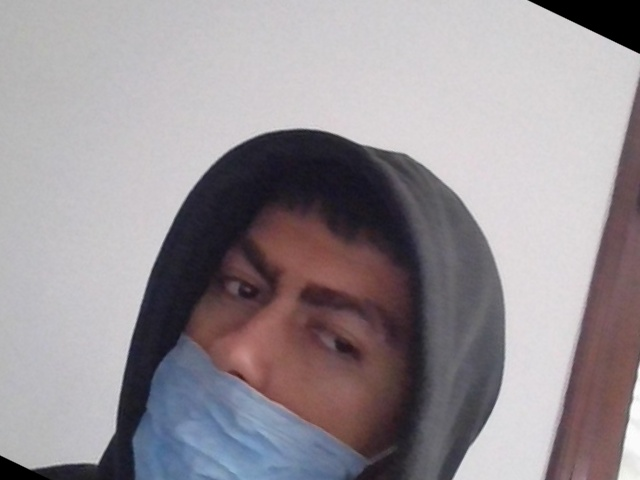mask_weared_incorrect: (114, 162, 453, 480)
